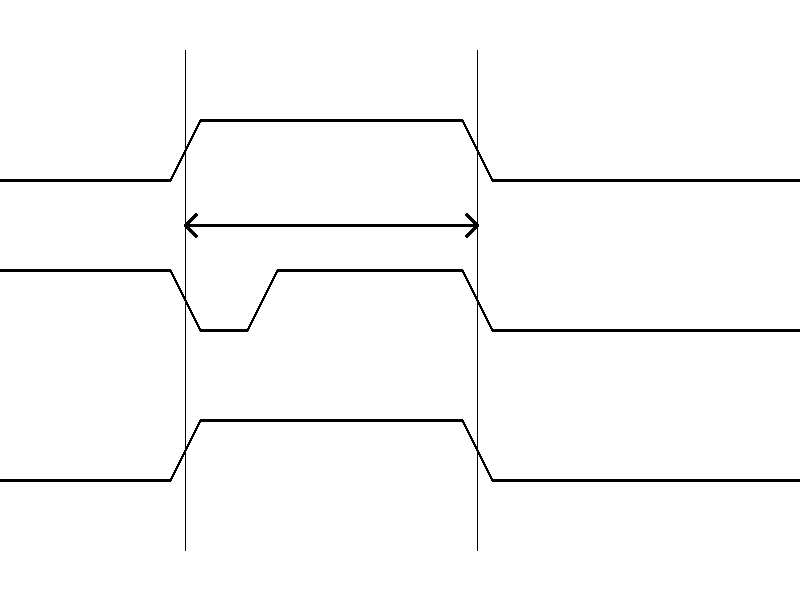double_arrow: (185, 210, 477, 240)
